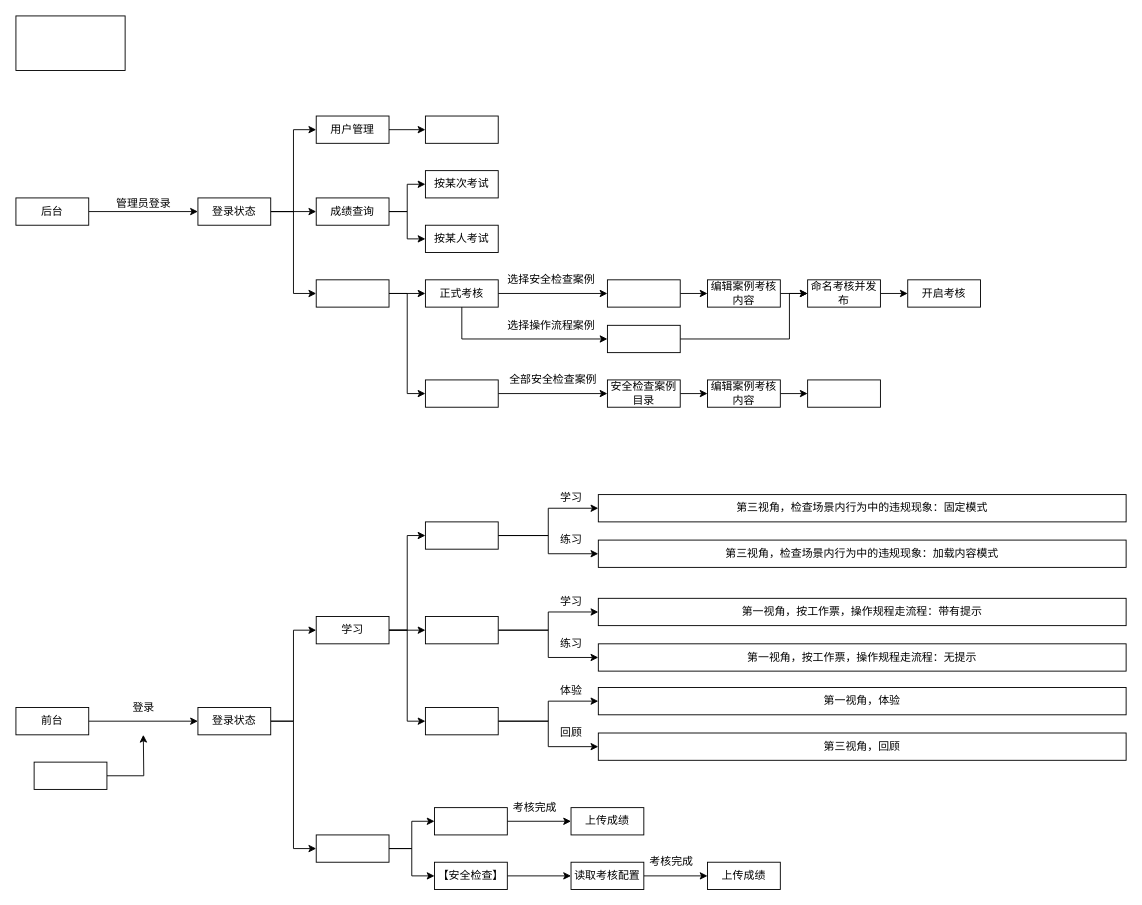
This 1142x905 diagram has some shape labels left out. Each missing label, with the centre of its shape:
【操作流程】: [470,821]
事故体验: [461,721]
保存: [843,393]
安全检查: [461,535]
安全检查案例XX: [643,293]
操作流程: [461,630]
操作流程案例XX: [643,338]
注册: [70,775]
电力VR: [70,43]
练习内容: [461,393]
考核: [352,848]
考核内容编辑: [352,293]
账号管理: [461,129]
